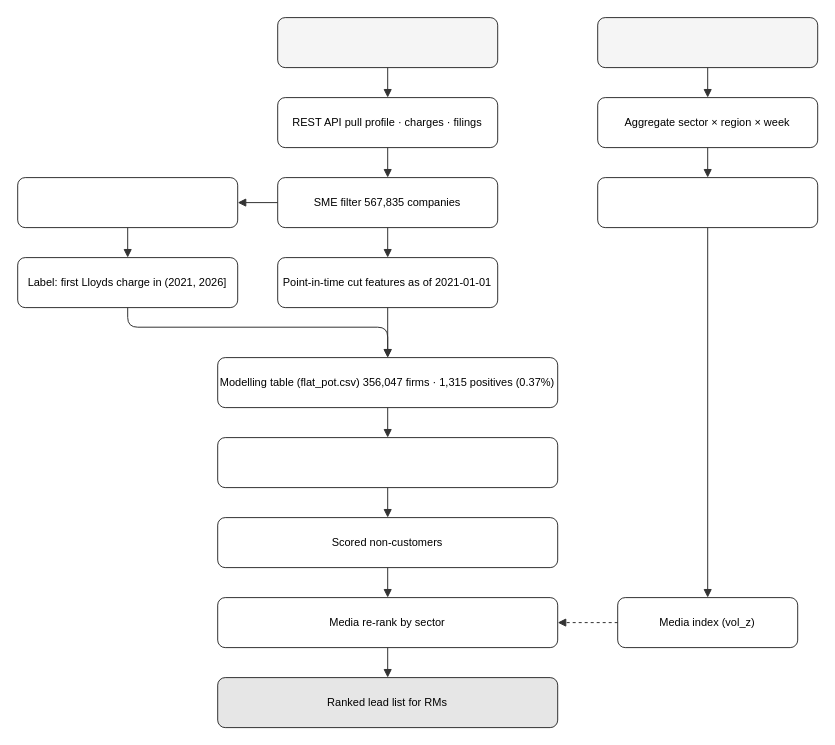
The diagram is 835 pixels wide and 745 high, and some of its shapes have lost their labels. The shapes that lost their labels are listed below. From the top down, each one's box as (x1, y1, x2, y2) in pixels, then its label:
(277, 17, 498, 68): Companies House bulk register
(597, 17, 818, 68): GDELT GKG via BigQuery funding themes · UK locations
(17, 177, 238, 228): Lloyds lender matching 399,703 charges
(597, 177, 818, 228): Trailing 52-week z-score
(217, 437, 558, 488): Logistic regression (balanced)
